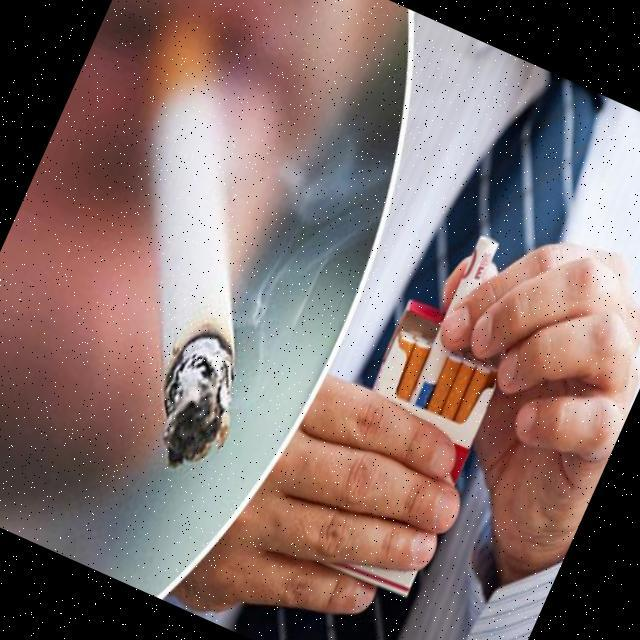cigarette: (0, 0, 400, 490)
